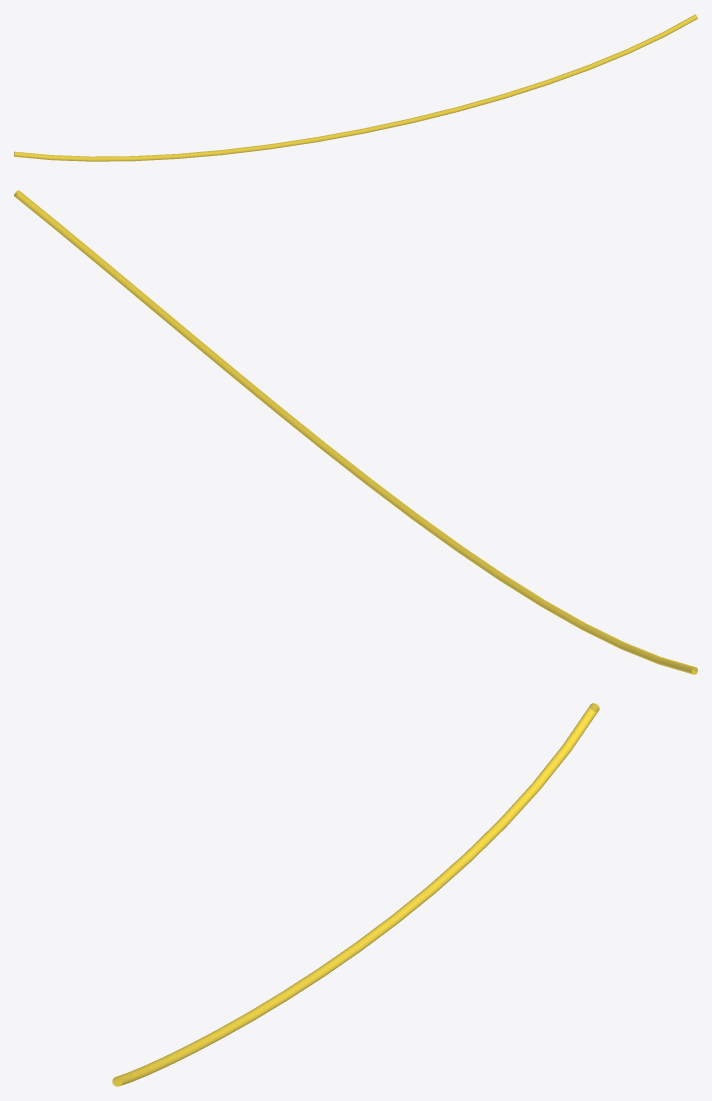
Rendered from Event_15818458_track_14.fbx.
3 renders of one model, top to bottom at view 1: azimuth 30°, elevation 25°; view 2: azimuth 150°, elevation 25°; view 3: azimuth 270°, elevation 25°, orthographic. The views are drawn at different scales.
Parts seen in each view (by area): view 1: Model; view 2: Model; view 3: Model.
Boxes of the visible parts, x1,y1,x2,y2 form: Model: (14, 14, 697, 161); Model: (14, 190, 697, 674); Model: (112, 703, 599, 1086).
Bounding box in the file's own units: 5.06 × 0.8835 × 1.89.
